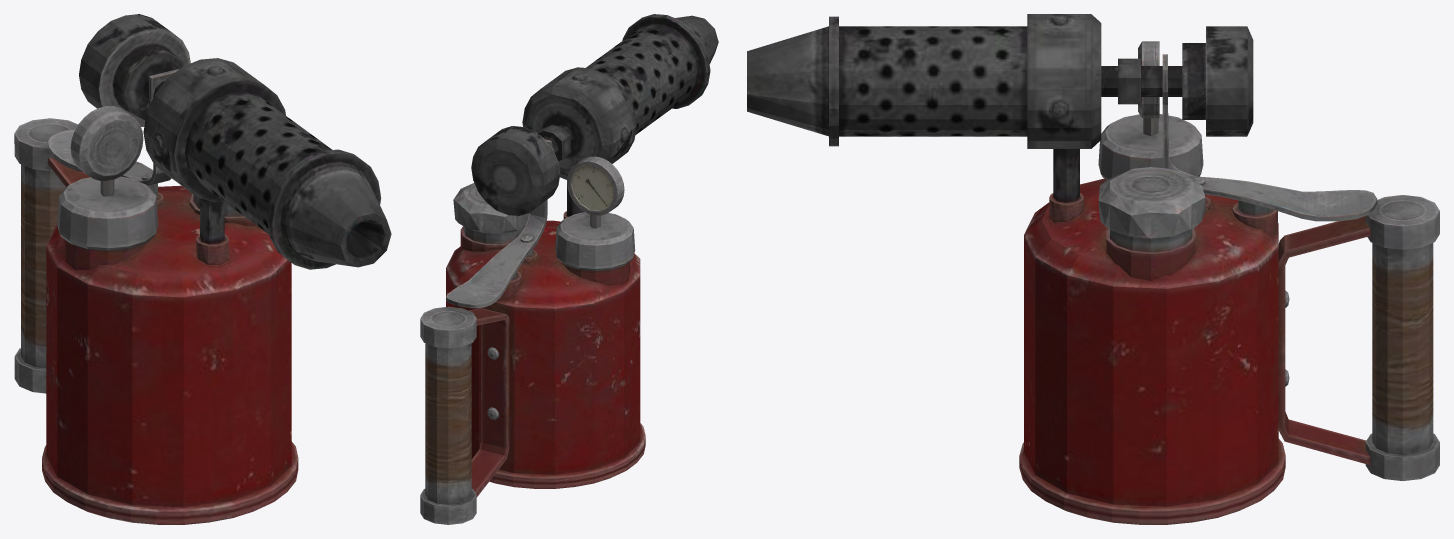
Rendered from pyro-blowtorch.glb.
The picture shows the model from 3 angles, left to right: view 1: azimuth 30°, elevation 25°; view 2: azimuth 150°, elevation 25°; view 3: azimuth 270°, elevation 25°; orthographic projection. The views are drawn at different scales.
Visible parts, largest first — view 1: geometry_0; view 2: geometry_0; view 3: geometry_0.
Part boxes in pixels (box(x1,y1,x2,y2)): geometry_0: box(14, 14, 391, 524); geometry_0: box(420, 14, 718, 524); geometry_0: box(747, 14, 1439, 524).
Size of the model in its own units: 0.1802 by 0.3409 by 0.471.
1 material, 1 textured.
